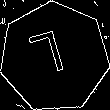L_S: (33, 28, 76, 86)
